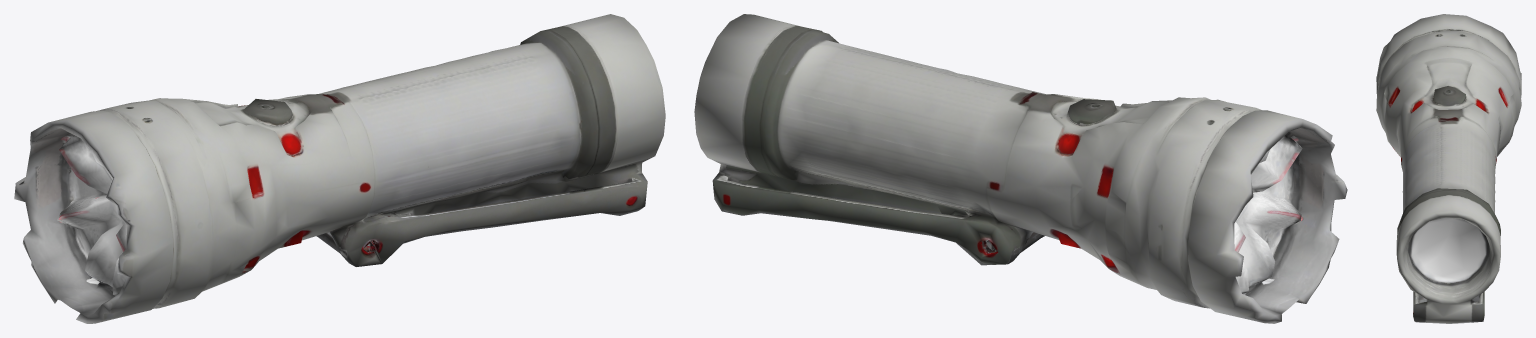
File: hazme_una_linterna_1021130939_texture.obj
The picture shows the model from 3 angles, left to right: view 1: azimuth 30°, elevation 25°; view 2: azimuth 150°, elevation 25°; view 3: azimuth 270°, elevation 25°; orthographic projection. The views are drawn at different scales.
Parts seen in each view (by area): view 1: hazme_una_linterna_1021130939_texture; view 2: hazme_una_linterna_1021130939_texture; view 3: hazme_una_linterna_1021130939_texture.
Part boxes in pixels (x1,y1,x2,y2): hazme_una_linterna_1021130939_texture: (14, 14, 665, 323); hazme_una_linterna_1021130939_texture: (694, 14, 1347, 323); hazme_una_linterna_1021130939_texture: (1376, 14, 1521, 323).
Bounding box in the file's own units: 1.91 × 0.6498 × 0.6359.
Materials: 1 (1 with a texture image).
